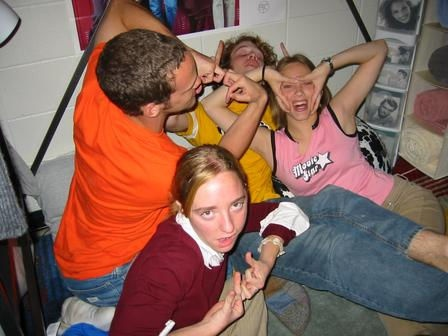head: (96, 28, 204, 130), (171, 144, 250, 253), (275, 54, 324, 119), (218, 33, 277, 78)
person: (47, 23, 268, 317), (234, 35, 444, 331), (109, 143, 289, 334)
